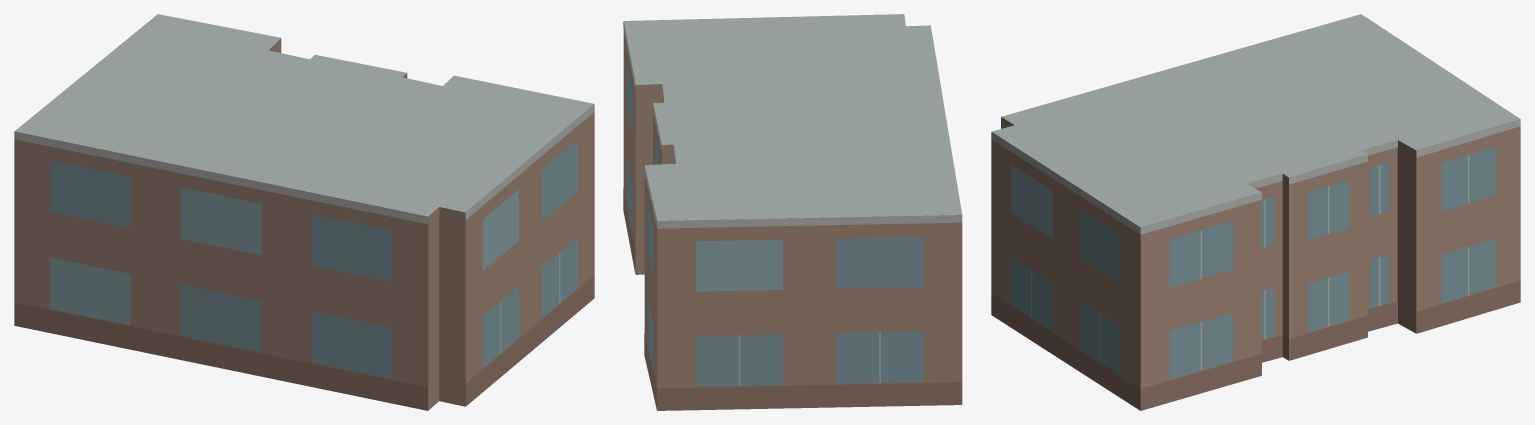
The model's file is survey-upis-32671242.glb.
3 renders of one model, left to right at view 1: azimuth 30°, elevation 25°; view 2: azimuth 150°, elevation 25°; view 3: azimuth 270°, elevation 25°, orthographic. The views are drawn at different scales.
Visible parts, largest first — view 1: survey-upis-32671242.tmp; view 2: survey-upis-32671242.tmp; view 3: survey-upis-32671242.tmp.
Part boxes in pixels (box(x1,y1,x2,y2)): survey-upis-32671242.tmp: box(14, 14, 594, 410); survey-upis-32671242.tmp: box(623, 14, 962, 410); survey-upis-32671242.tmp: box(991, 14, 1520, 410).
Size of the model in its own units: 15.24 by 6.1 by 15.96.
